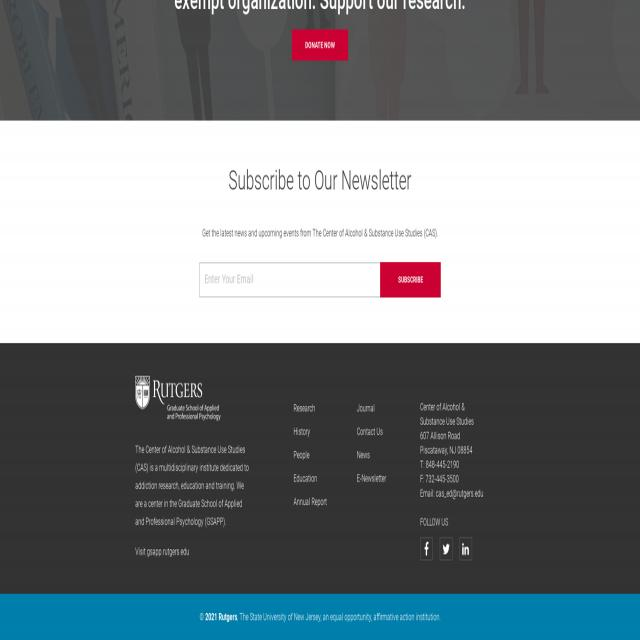button: (135, 376, 223, 431), (380, 262, 441, 298), (292, 29, 348, 61), (459, 538, 472, 560), (420, 538, 432, 560), (440, 538, 452, 560)
field: (199, 262, 381, 298)
